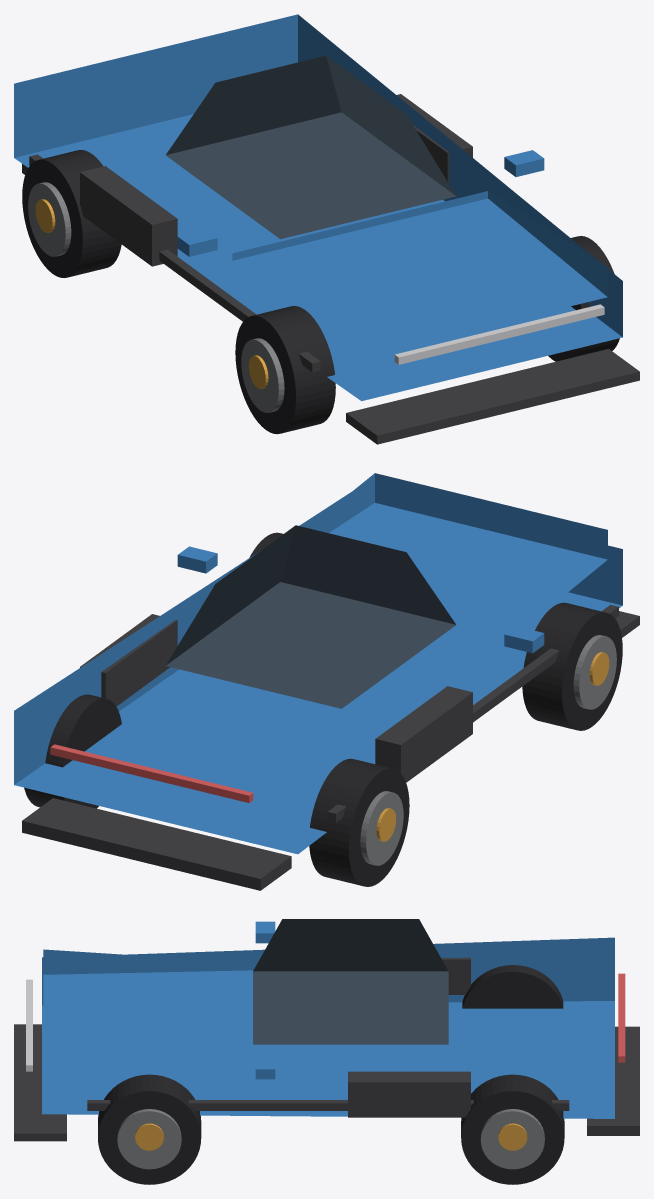
The model's file is blue_racer_mclaren_style.glb.
The picture shows the model from 3 angles, top to bottom: view 1: azimuth 30°, elevation 25°; view 2: azimuth 150°, elevation 25°; view 3: azimuth 270°, elevation 25°; orthographic projection. The views are drawn at different scales.
Visible parts, largest first — view 1: part_0, part_1, part_2, part_3, part_9, part_5, part_12, part_7, part_10, part_13, part_23, part_6 (+3 smaller); view 2: part_0, part_2, part_1, part_4, part_12, part_9, part_5, part_6, part_18, part_8, part_13, part_10 (+3 smaller); view 3: part_0, part_1, part_2, part_15, part_18, part_6, part_3, part_12, part_4, part_16, part_19, part_24 (+7 smaller).
Part boxes in pixels (x1,y1,x2,y2): part_0: [14, 14, 622, 401]; part_1: [232, 191, 607, 353]; part_2: [166, 55, 455, 239]; part_3: [346, 349, 639, 444]; part_9: [235, 306, 335, 434]; part_5: [80, 166, 177, 266]; part_12: [22, 150, 121, 277]; part_7: [394, 304, 604, 364]; part_10: [241, 338, 284, 412]; part_13: [28, 182, 71, 256]; part_23: [29, 154, 320, 372]; part_6: [397, 94, 472, 183]; part_0: [14, 492, 622, 854]; part_2: [165, 525, 456, 708]; part_1: [307, 473, 607, 658]; part_4: [22, 798, 291, 890]; part_12: [309, 758, 409, 886]; part_9: [522, 602, 622, 730]; part_5: [375, 686, 472, 782]; part_6: [80, 614, 177, 706]; part_18: [24, 694, 121, 808]; part_8: [50, 744, 253, 802]; part_13: [360, 791, 403, 865]; part_10: [573, 635, 616, 709]; part_0: [42, 937, 614, 1118]; part_1: [43, 949, 266, 1075]; part_2: [253, 919, 448, 1044]; part_15: [98, 1074, 201, 1184]; part_18: [461, 1074, 564, 1184]; part_6: [348, 1071, 470, 1117]; part_3: [14, 1024, 66, 1141]; part_12: [462, 965, 563, 1008]; part_4: [587, 1026, 639, 1135]; part_16: [117, 1109, 181, 1169]; part_19: [480, 1109, 544, 1169]; part_24: [87, 1100, 569, 1110].
Bounding box in the file's own units: 2.5 × 1.38 × 4.48.
